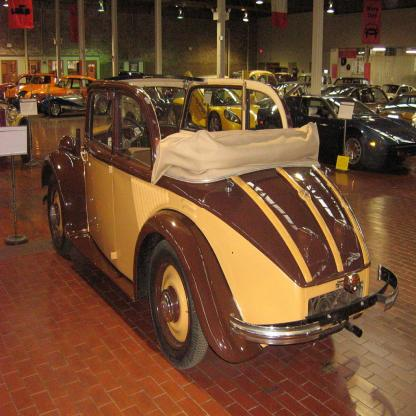Car: (1, 68, 416, 375)
